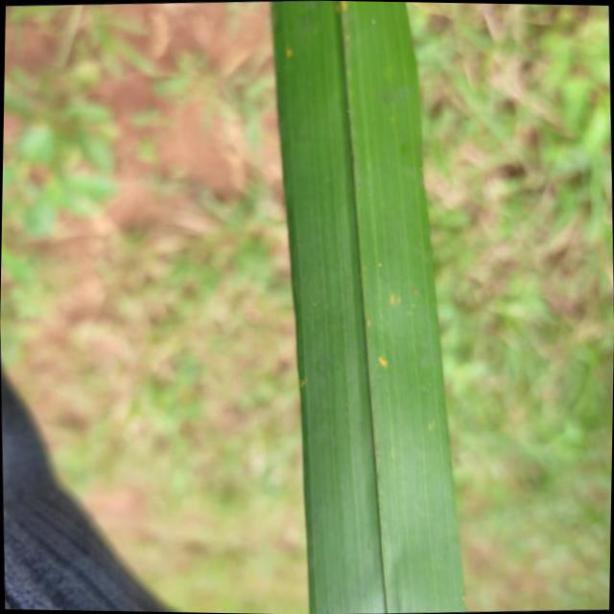Kalium: (270, 0, 469, 614)
